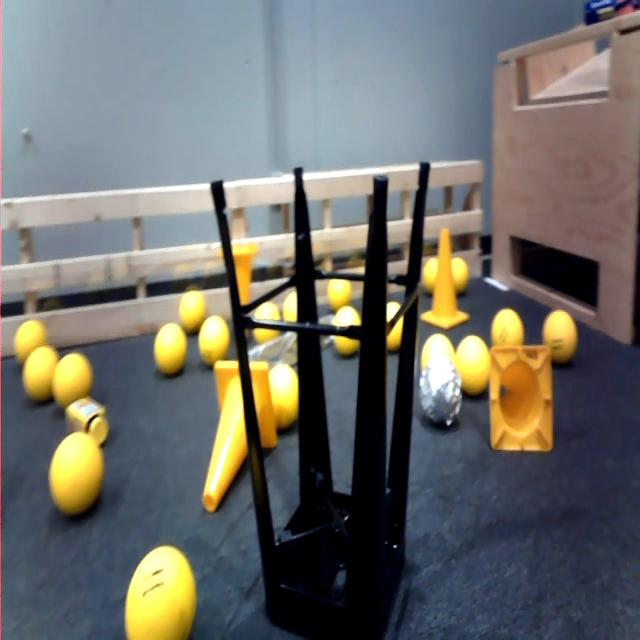fuel: (121, 536, 203, 640), (53, 428, 108, 517), (264, 363, 305, 439), (52, 339, 97, 404), (148, 321, 191, 388), (454, 334, 496, 397), (19, 343, 58, 407), (197, 312, 235, 372), (485, 298, 525, 352), (380, 296, 412, 362), (542, 306, 580, 361), (329, 303, 364, 362), (420, 323, 456, 377), (250, 294, 280, 354), (11, 315, 51, 359), (177, 284, 208, 332), (448, 253, 475, 296), (423, 252, 444, 302), (325, 270, 352, 308), (284, 287, 305, 333)
